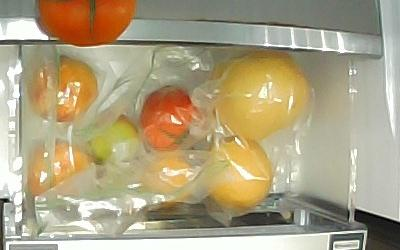peach_vinyl: (25, 53, 98, 123), (26, 137, 90, 198)
pear_vinyl: (205, 49, 309, 139), (205, 135, 273, 207)
tangerine_vinyl: (144, 153, 193, 198)
tomato_vinyl: (138, 83, 201, 152), (85, 112, 141, 163)
